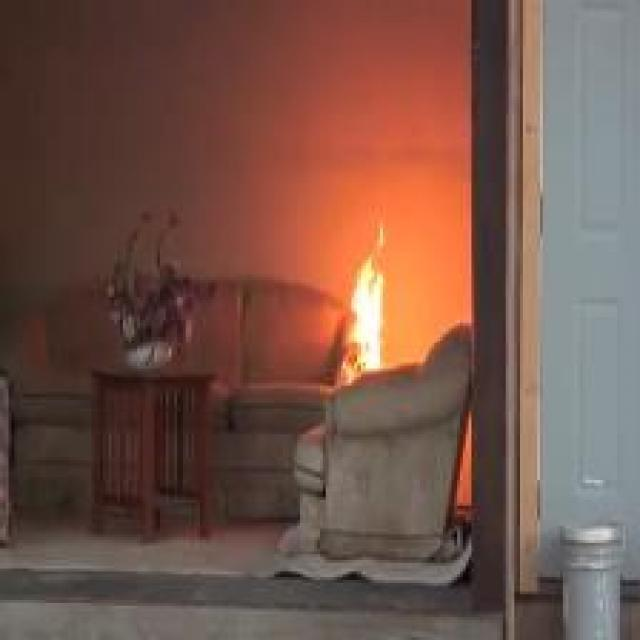Fire: (336, 222, 384, 388)
